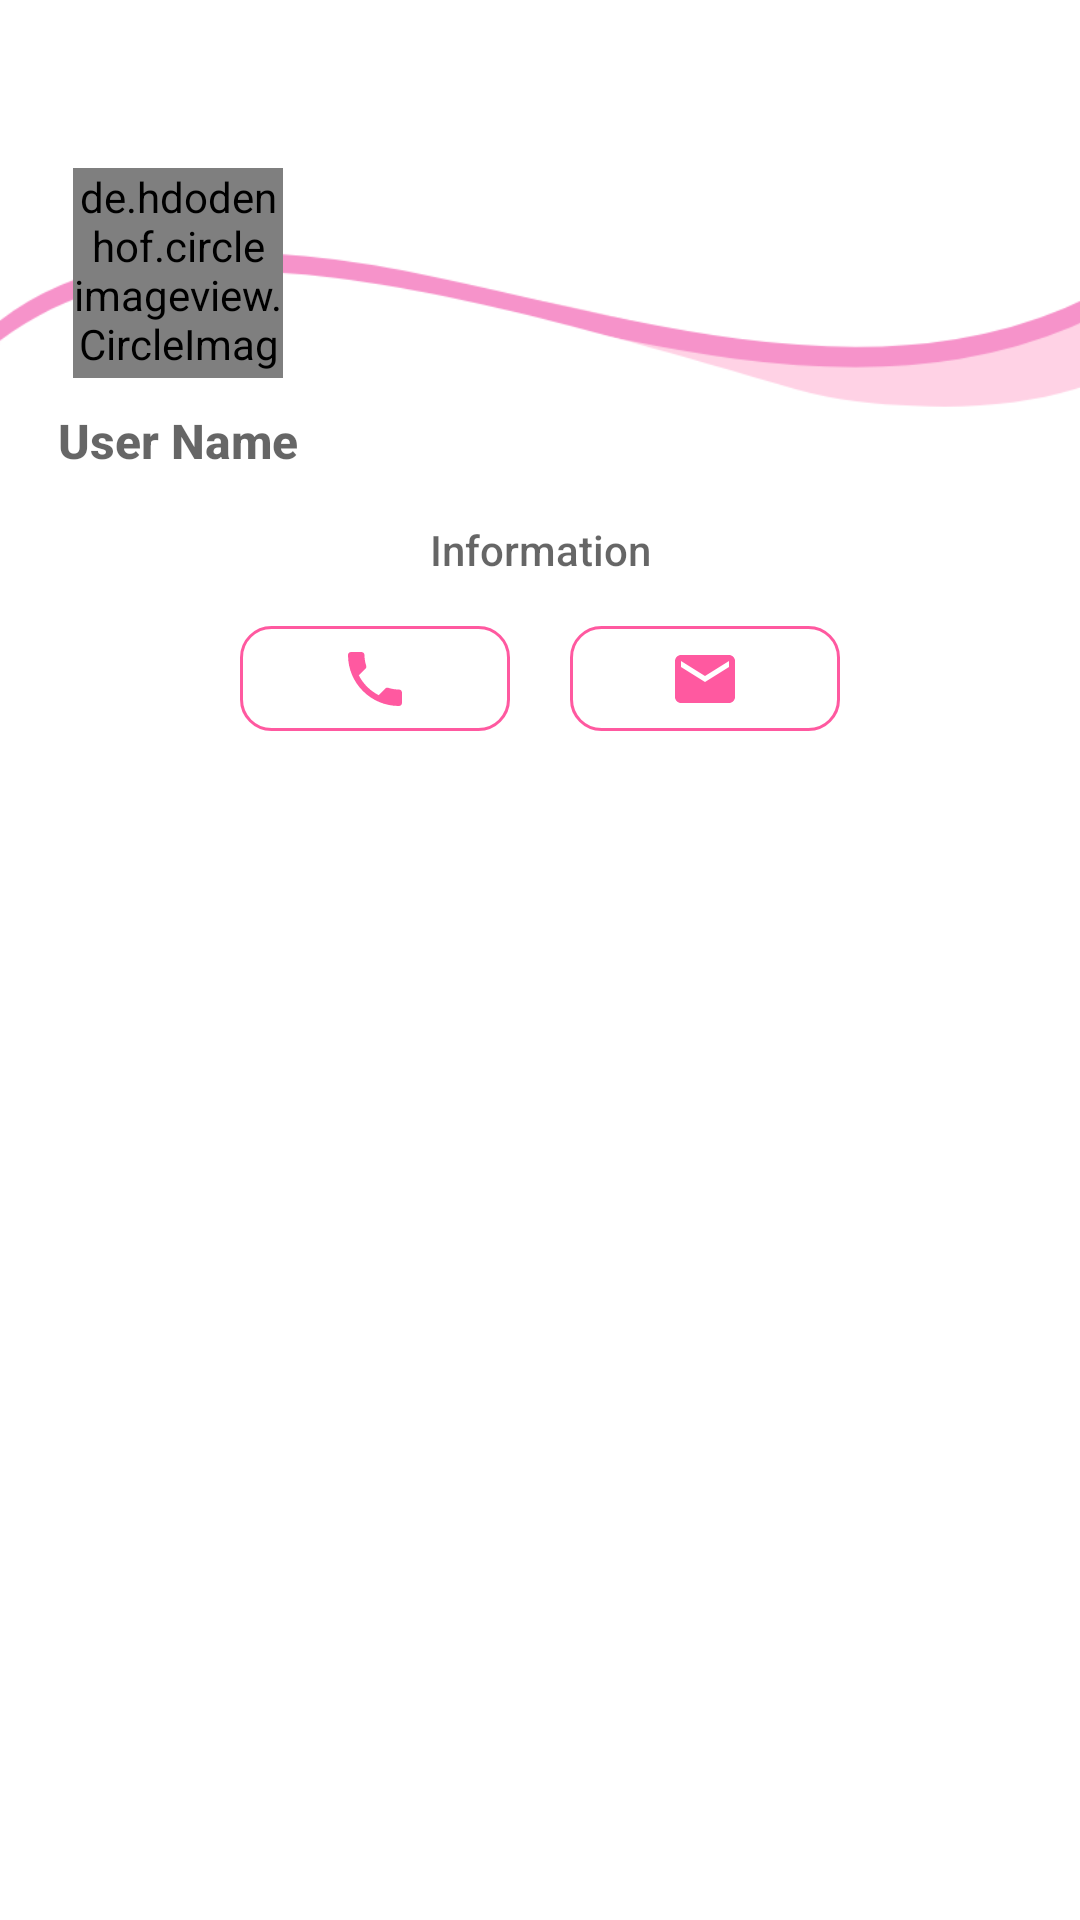

Named icons in this screenshot (1080 x 1920) and their bounding boxes, bbox=[x1, y1, x2, y2]:
email profile: bbox=[570, 626, 840, 731]
phone profile: bbox=[240, 626, 510, 731]
